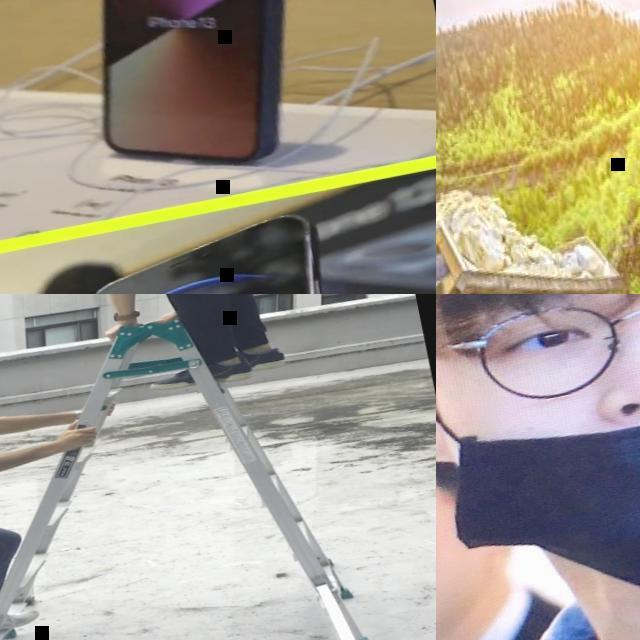machinery: (436, 183, 640, 294)
mask: (436, 307, 640, 640)
no_helmet: (33, 257, 130, 294)
no_mask: (436, 509, 511, 640)
no_vest: (442, 548, 640, 640)
person: (436, 294, 640, 640), (436, 294, 604, 640), (0, 310, 165, 640), (29, 294, 368, 412)
